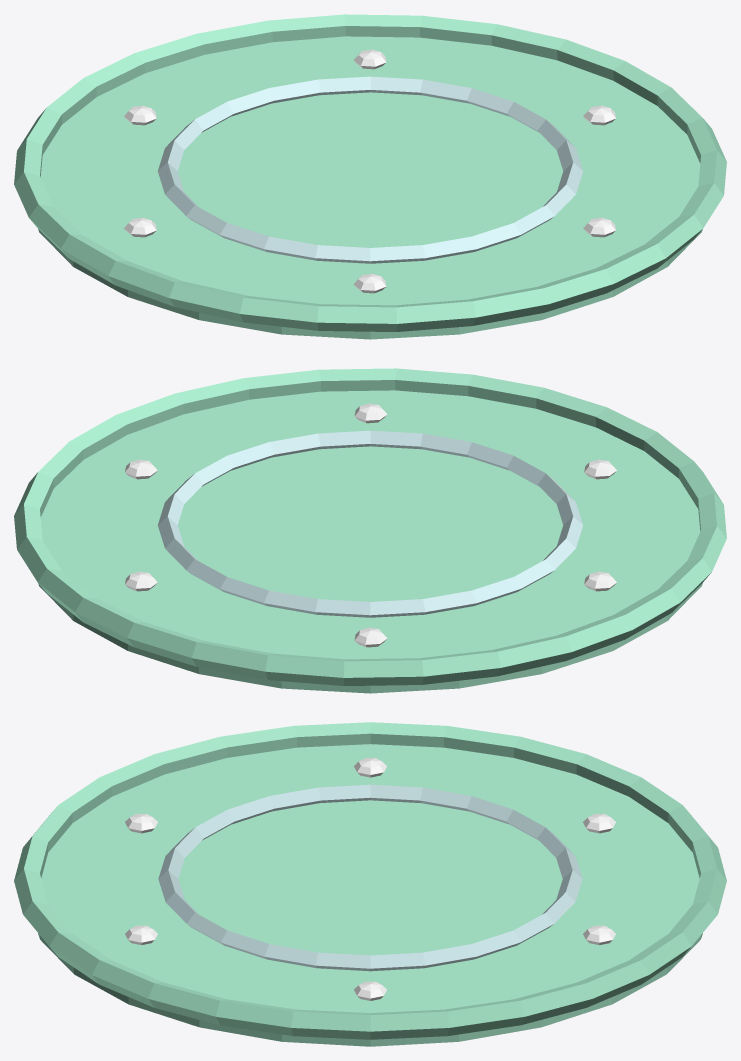
Rendered from placa_recarga.glb.
The picture shows the model from 3 angles, top to bottom: view 1: azimuth 30°, elevation 25°; view 2: azimuth 150°, elevation 25°; view 3: azimuth 270°, elevation 25°; orthographic projection.
Visible parts, largest first — view 1: placa_recarga; view 2: placa_recarga; view 3: placa_recarga.
Boxes of the visible parts, bbox=[...] form: placa_recarga: bbox=[14, 14, 726, 339]; placa_recarga: bbox=[14, 368, 726, 693]; placa_recarga: bbox=[14, 722, 726, 1046].
Size of the model in its own units: 2.29 by 0.1187 by 2.29.
